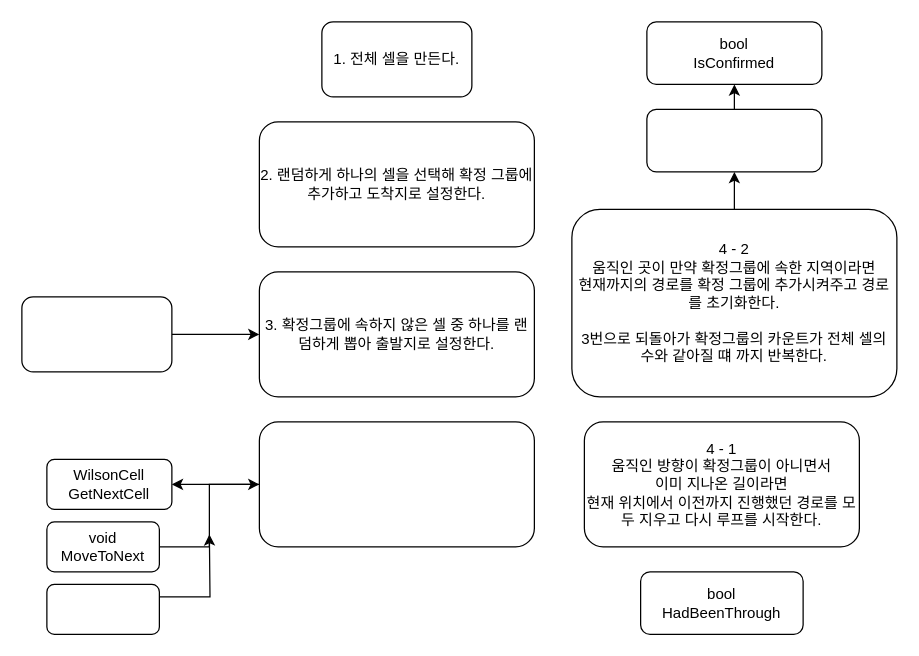
This 919x656 diagram has some shape labels left out. The shapes that lost their labels are listed below. From the top down, each one's box as (x1, y1, x2, y2) in pixels, then its label:
(646, 108, 822, 172): void AddToConfirmed
(21, 296, 172, 372): WilsonCell GetNewStartPoint
(258, 421, 534, 547): 4. 주위 네 방향중 방금 지나온 셀 하나를 제외한 세방향 셀 중 랜덤한 한 방향으로 움직이며 경로를 저장한다.
(46, 583, 159, 634): void SavePath
